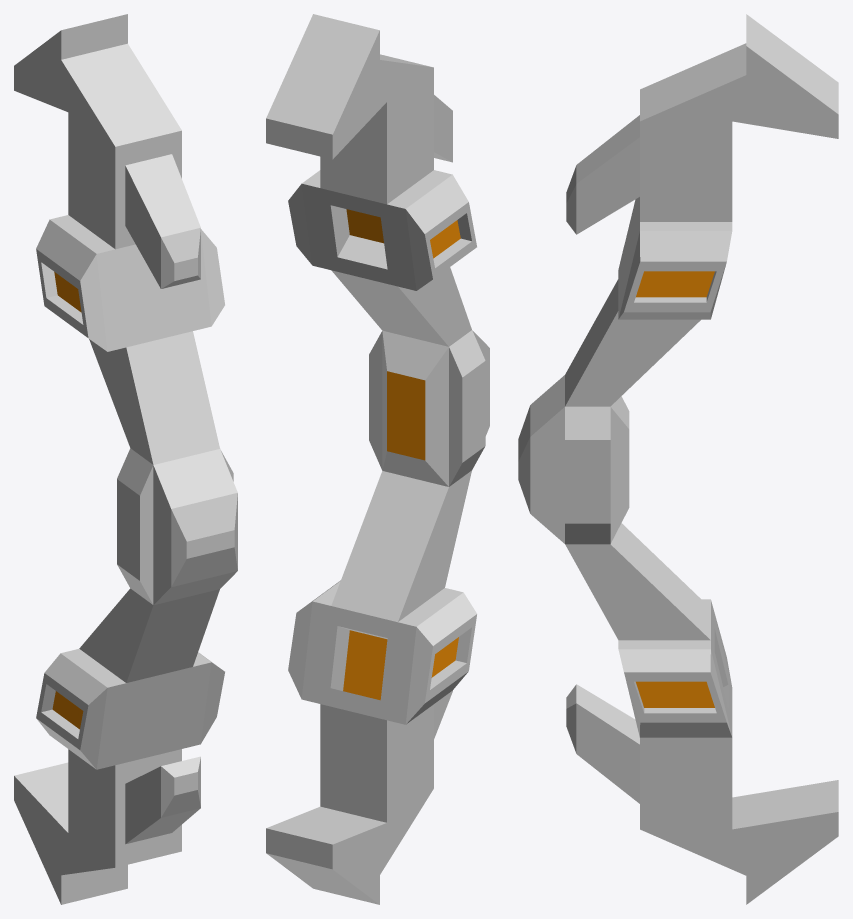
Rendered from Sonar Pulse.glb.
3 views of the same model, side by side, from view 1: azimuth 30°, elevation 25°; view 2: azimuth 150°, elevation 25°; view 3: azimuth 270°, elevation 25° (orthographic).
Visible parts, largest first — view 1: Bow; view 2: Bow; view 3: Bow.
Part boxes in pixels (box(x1,y1,x2,y2)): Bow: box(14, 14, 237, 904); Bow: box(266, 14, 489, 904); Bow: box(518, 14, 838, 904).
Size of the model in its own units: 0.6589 by 4.03 by 1.36.
